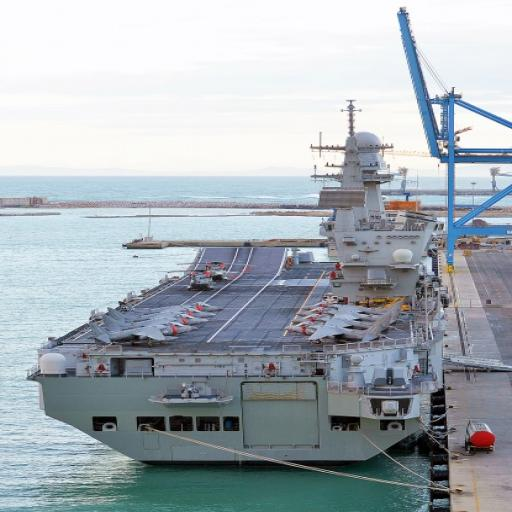Portanaves: (28, 104, 444, 473)
